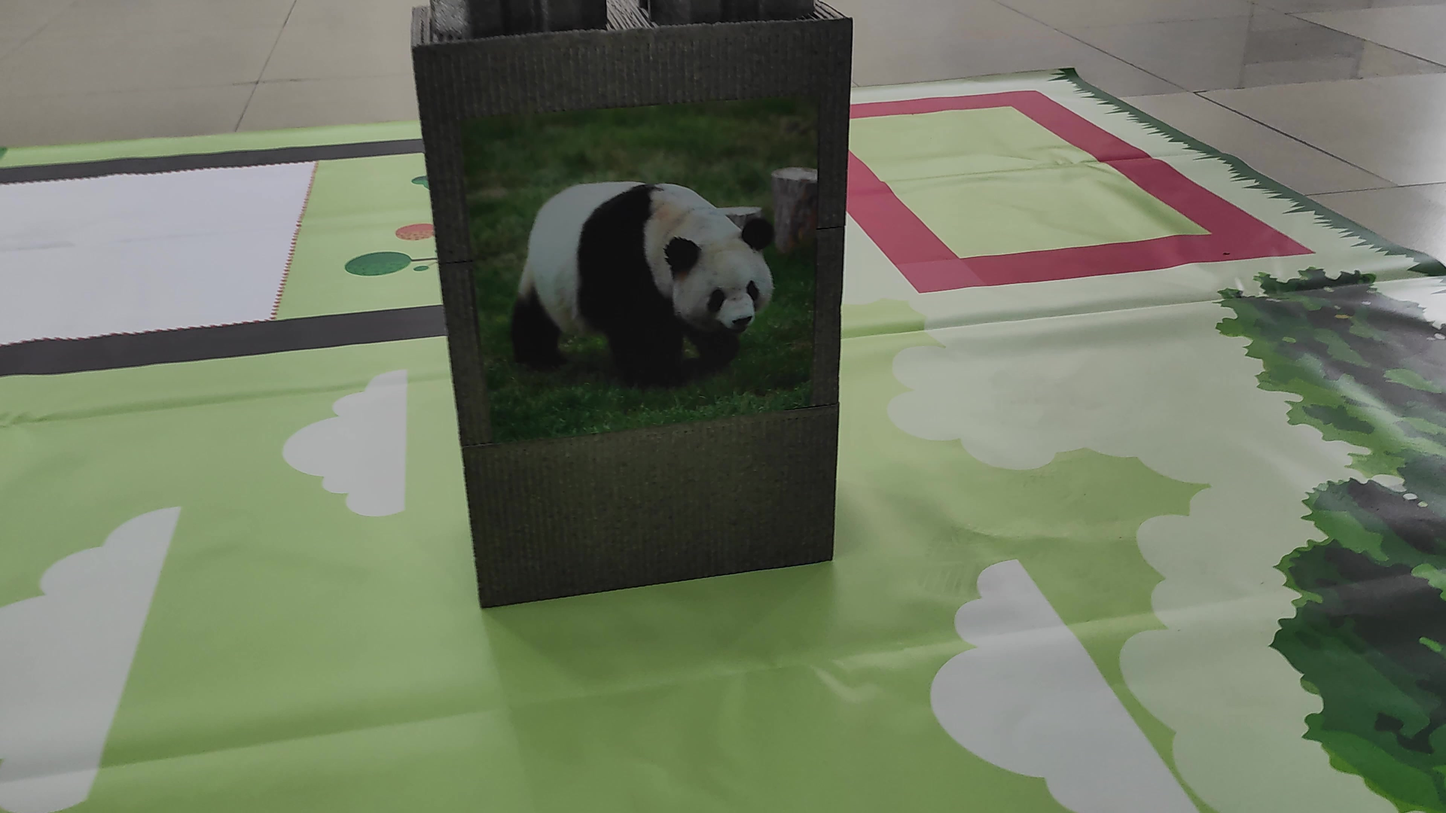panda: (497, 163, 795, 392)
